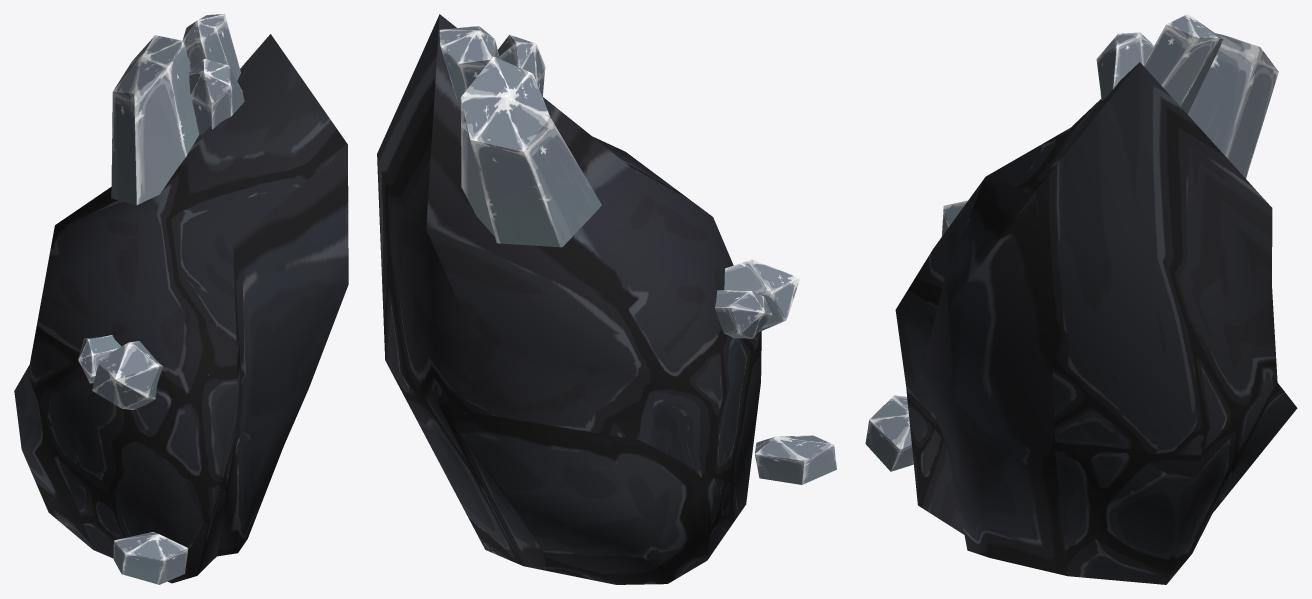
File: SM_PROP_orevein_silver_dungeon.fbx
The picture shows the model from 3 angles, left to right: view 1: azimuth 30°, elevation 25°; view 2: azimuth 150°, elevation 25°; view 3: azimuth 270°, elevation 25°; orthographic projection. The views are drawn at different scales.
Visible parts, largest first — view 1: SM_PROP_orevein_silver_dungeon; view 2: SM_PROP_orevein_silver_dungeon; view 3: SM_PROP_orevein_silver_dungeon.
Part boxes in pixels (bbox=[...]): SM_PROP_orevein_silver_dungeon: bbox=[14, 14, 348, 584]; SM_PROP_orevein_silver_dungeon: bbox=[377, 14, 836, 584]; SM_PROP_orevein_silver_dungeon: bbox=[865, 14, 1297, 584].
Size of the model in its own units: 49.99 by 74.77 by 50.9.
